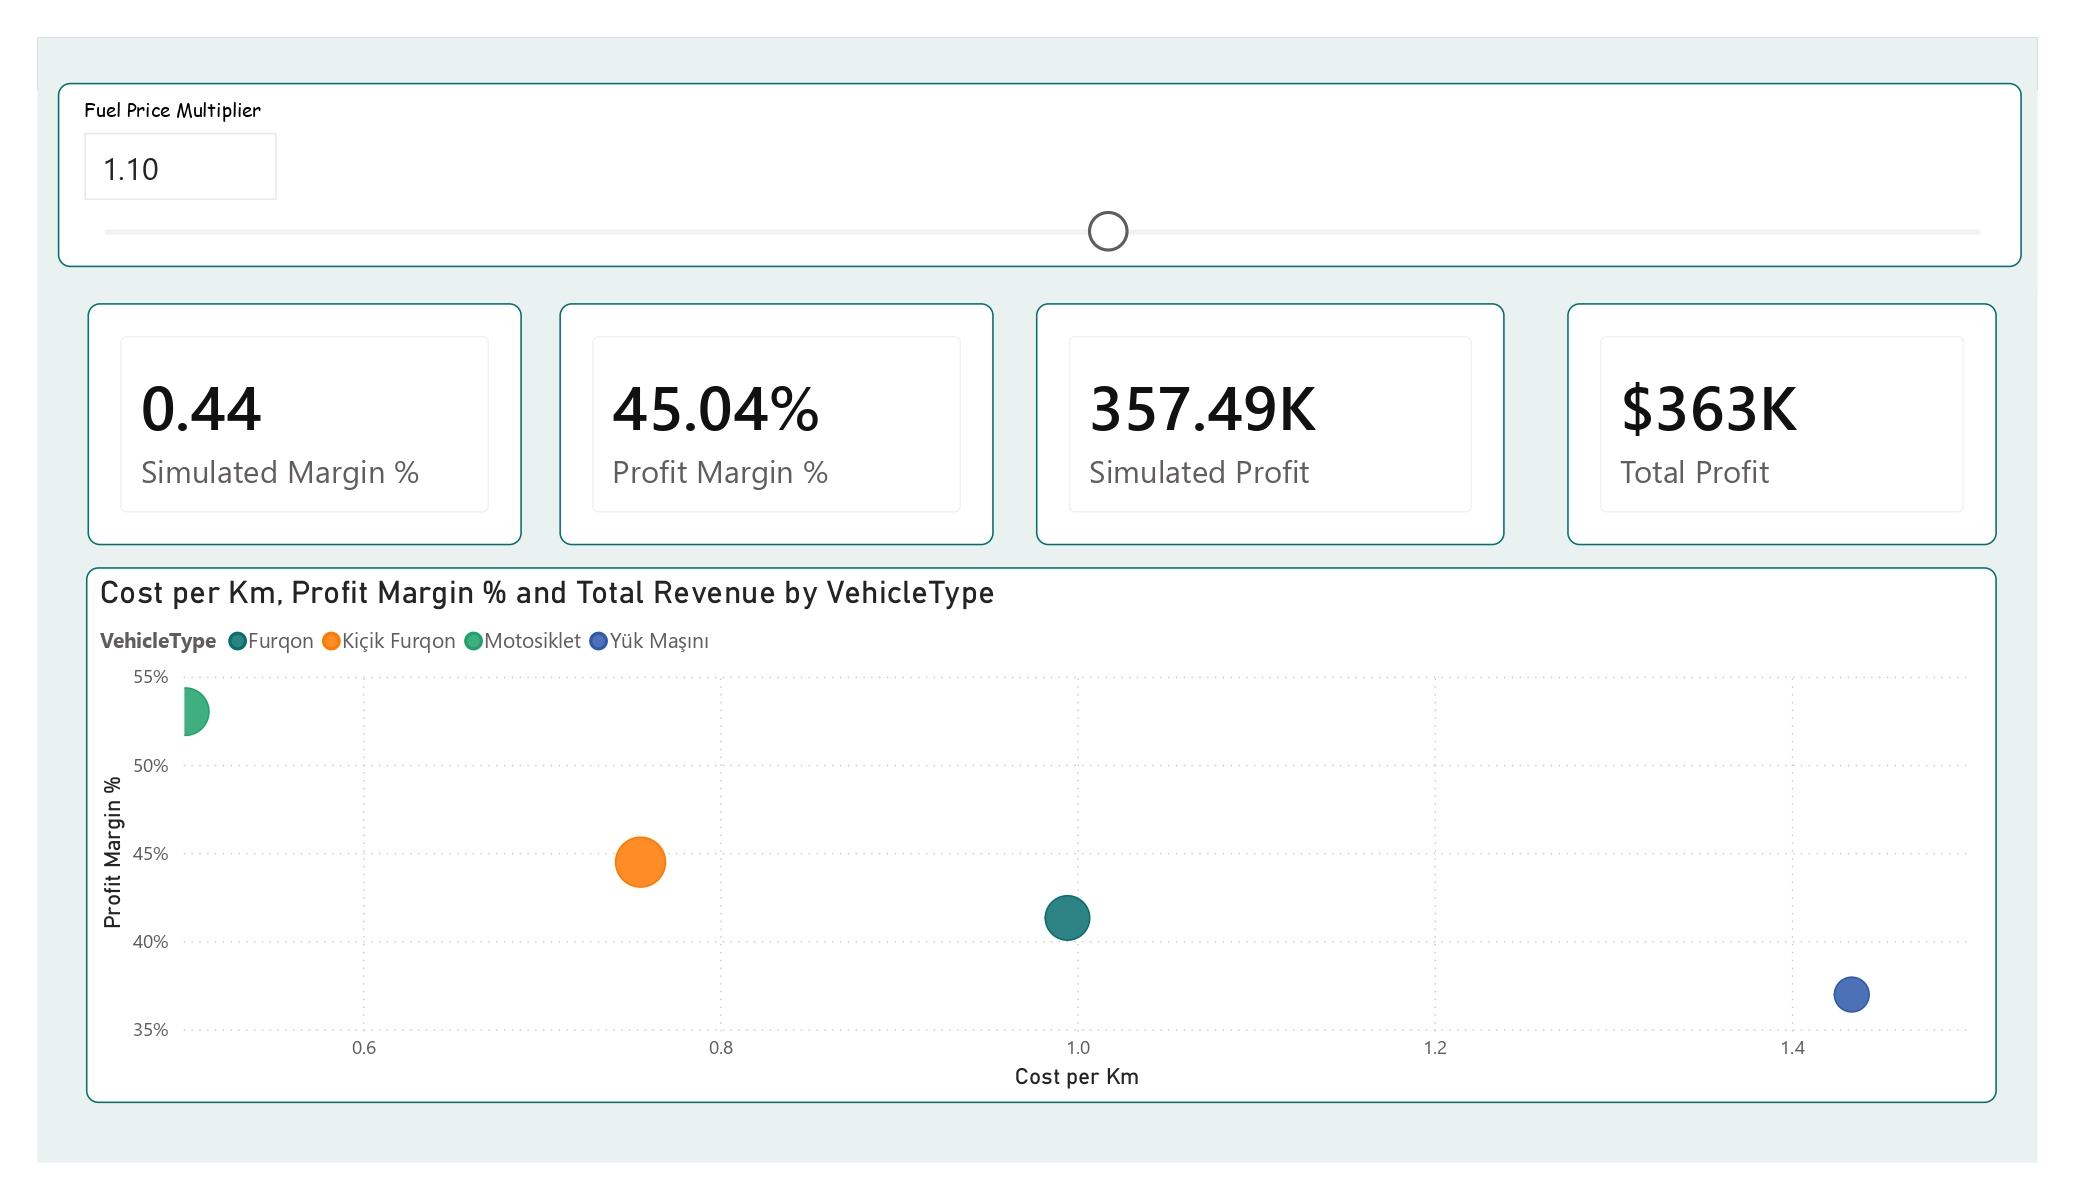

The dashboard page shown, as its layout file describes it:
{"tool":"powerbi","page":{"name":"Profitability & Simulation","canvas":[1280,720],"ordinal":4},"visuals":[{"type":"slicer","fields":{"Values":["Fuel Price Multiplier.Fuel Price Multiplier"]},"box":[13,28.8,1257.1,118.1],"z":0},{"type":"cardVisual","fields":{"Data":["_Measures.Simulated Margin %"]},"box":[31.7,169.9,277.9,155.5],"z":2000},{"type":"scatterChart","fields":{"X":["_Measures.Cost per Km"],"Y":["_Measures.Profit Margin %"],"Series":["dim_vehicle.VehicleType"],"Size":["_Measures.Total Revenue"]},"box":[31.3,339.1,1222.6,342.6],"z":3000},{"type":"cardVisual","fields":{"Data":["_Measures.Total Profit"]},"box":[979.2,169.9,275,155.5],"z":3001},{"type":"cardVisual","fields":{"Data":["_Measures.Profit Margin %"]},"box":[334.1,169.9,277.9,155.5],"z":3002},{"type":"cardVisual","fields":{"Data":["_Measures.Simulated Profit"]},"box":[639.4,169.9,299.5,155.5],"z":3003}]}

Visuals, with their boxes in screenshot pixels (x1, y1, x2, y2):
slicer - Fuel Price Multiplier.Fuel Price Multiplier: (74,82,2013,264)
cardVisual - _Measures.Simulated Margin %: (103,300,531,540)
scatterChart - _Measures.Cost per Km x _Measures.Profit Margin %: (102,561,1988,1089)
cardVisual - _Measures.Total Profit: (1564,300,1988,540)
cardVisual - _Measures.Profit Margin %: (569,300,998,540)
cardVisual - _Measures.Simulated Profit: (1040,300,1502,540)
